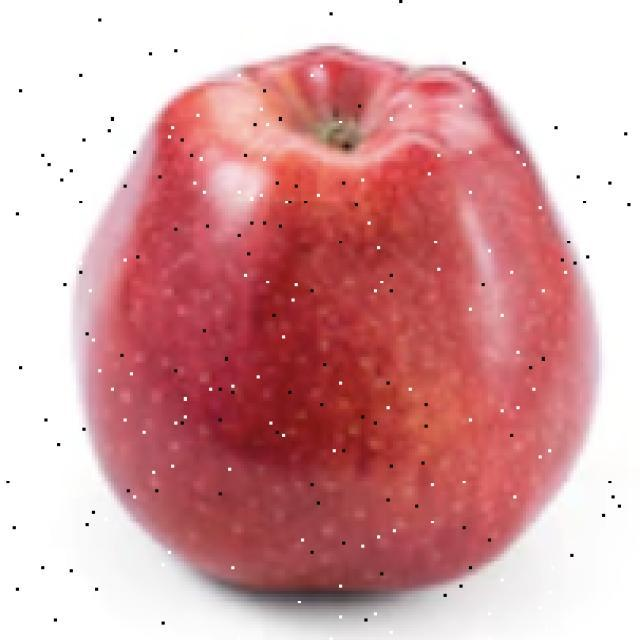Fresh Apple: (90, 51, 595, 606)
